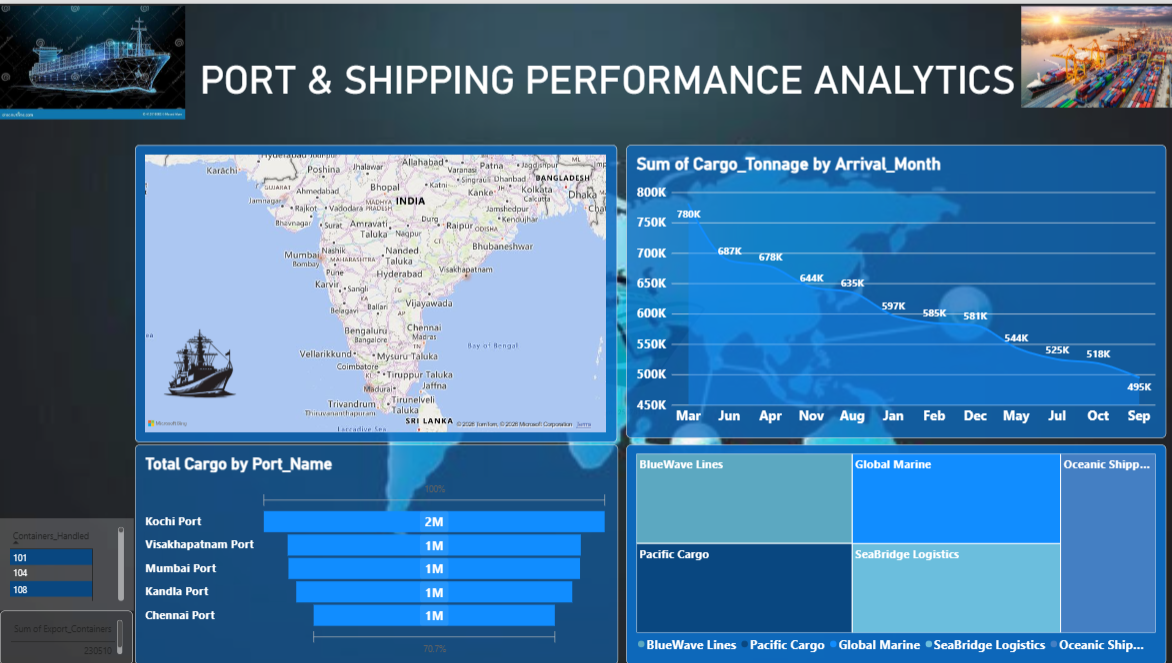

Layout of this report page (visuals, bound fields, positions):
{"tool":"powerbi","page":{"name":"PORT & SHIPPING PERFORMANCE ANALYTICS","canvas":[1920,1080],"ordinal":1},"visuals":[{"type":"areaChart","fields":{"Category":["Shipping_Data.Arrival_Month"],"Y":["Sum(Shipping_Data.Cargo_Tonnage)"]},"box":[1022.5,229.8,881.3,479.6],"z":0},{"type":"map","fields":{"Category":["Shipping_Data.Port_Name"],"Size":["Sum(Shipping_Data.Containers_Handled)"]},"box":[220.8,229.8,787.2,486.8],"z":1000},{"type":"funnel","fields":{"Category":["Shipping_Data.Port_Name"],"Y":["Shipping_Data.Total Cargo"]},"box":[220.8,719.9,789,360.1],"z":2000},{"type":"treemap","fields":{"Group":["Shipping_Data.Shipping_Company"],"Values":["Sum(Shipping_Data.Containers_Handled)"]},"box":[1022.5,720.2,881.3,360.1],"z":3000},{"type":"textbox","title":"PORT & SHIPPING PERFORMANCE ANALYTICS","box":[327.5,85.1,1433.3,88.7],"z":3001},{"type":"pivotTable","fields":{"Rows":["Shipping_Data.Containers_Handled"]},"box":[0,841.5,218.2,150.9],"z":3002},{"type":"textbox","box":[0,0,196,150],"z":3004},{"type":"image","box":[190,519.4,273.3,139.3],"z":3007},{"type":"tableEx","fields":{"Values":["Sum(Shipping_Data.Export_Containers)"]},"box":[0,991.7,217.2,88.7],"z":3008},{"type":"image","box":[1666.7,0,253.4,173.7],"z":3009},{"type":"image","box":[0,0,302.2,191.8],"z":3010}]}

Visuals, with their boxes in screenshot pixels (x1, y1, x2, y2), scaled from the page's 1920x1080 canvas onto the 1172x663 screenshot:
areaChart - Shipping_Data.Arrival_Month x Sum(Shipping_Data.Cargo_Tonnage): region(624, 141, 1162, 435)
map - Shipping_Data.Port_Name x Sum(Shipping_Data.Containers_Handled): region(135, 141, 615, 440)
funnel - Shipping_Data.Port_Name x Shipping_Data.Total Cargo: region(135, 442, 616, 662)
treemap - Shipping_Data.Shipping_Company x Sum(Shipping_Data.Containers_Handled): region(624, 442, 1162, 662)
"PORT & SHIPPING PERFORMANCE ANALYTICS" textbox: region(200, 52, 1075, 107)
pivotTable - Shipping_Data.Containers_Handled: region(0, 517, 133, 609)
textbox: region(0, 0, 120, 92)
image: region(116, 319, 283, 404)
tableEx - Sum(Shipping_Data.Export_Containers): region(0, 609, 133, 662)
image: region(1017, 0, 1171, 107)
image: region(0, 0, 184, 118)
